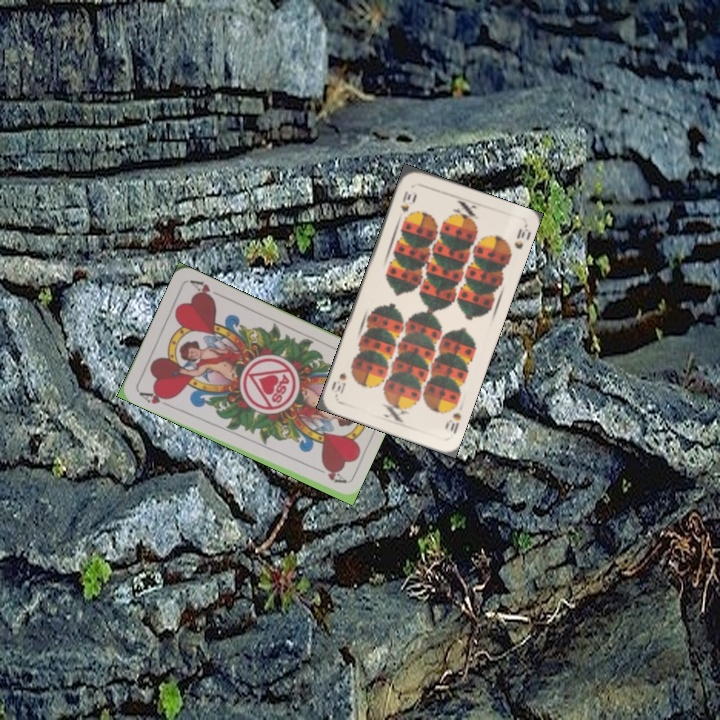HA: (135, 387, 173, 409)
S10: (441, 408, 464, 437), (396, 187, 418, 215)
